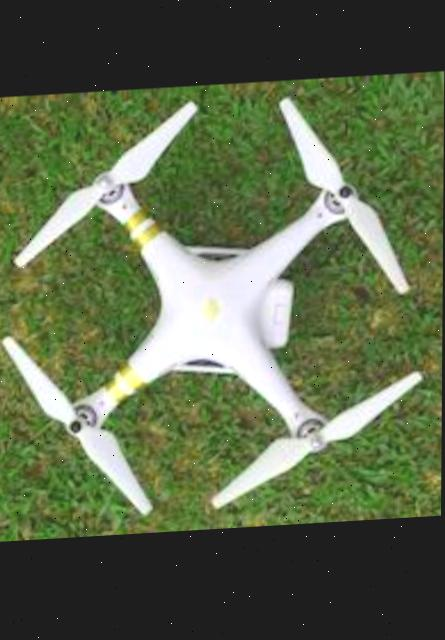drone: (0, 76, 443, 542)
